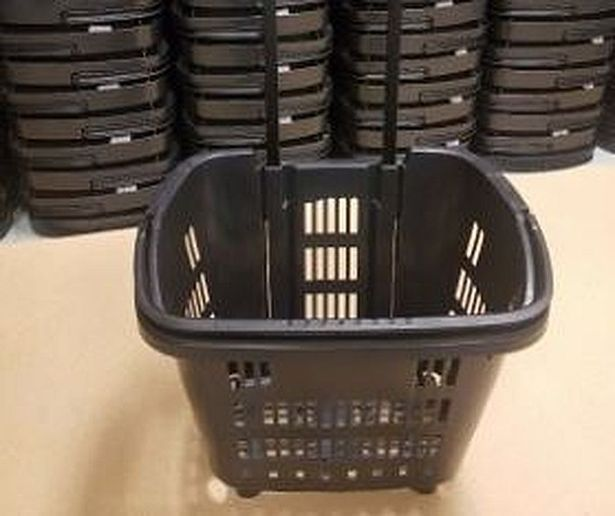with_basket: (132, 141, 565, 515)
